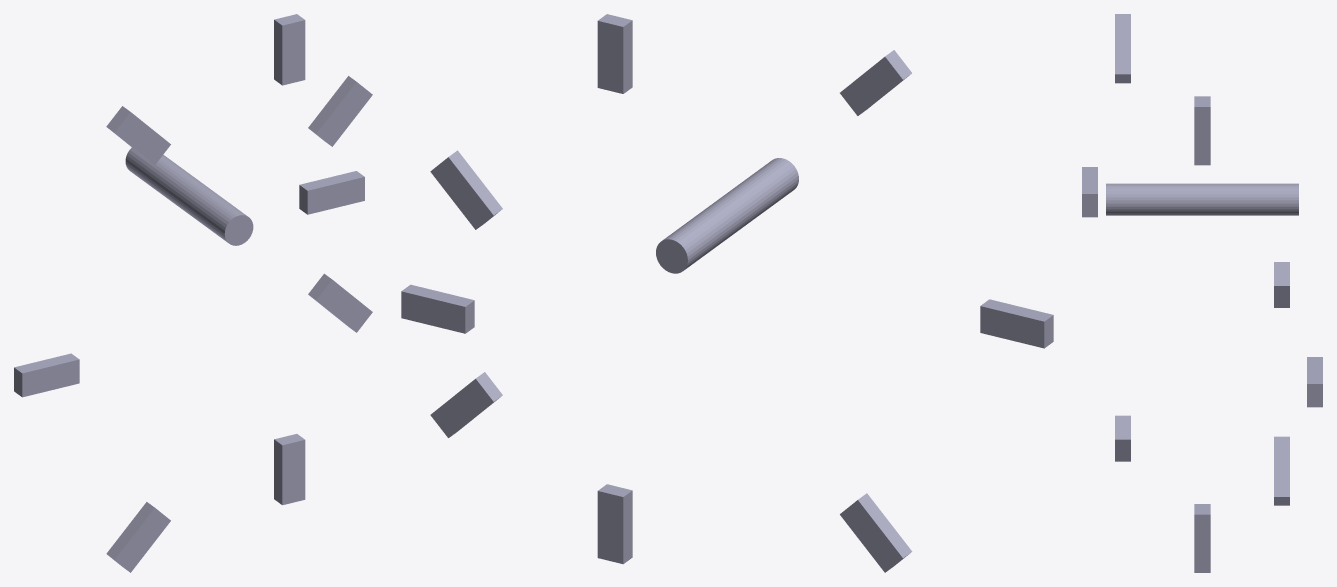
3 views of the same model, side by side, from view 1: azimuth 30°, elevation 25°; view 2: azimuth 150°, elevation 25°; view 3: azimuth 270°, elevation 25° (orthographic). The views are drawn at different scales.
Parts seen in each view (by area): view 1: world; view 2: world; view 3: world.
Part boxes in pixels (x1,y1,x2,y2): world: (14,14,372,572); world: (401,14,1053,572); world: (1082,14,1322,572).
Bounding box in the file's own units: 1.6 × 1.6 × 0.75.
